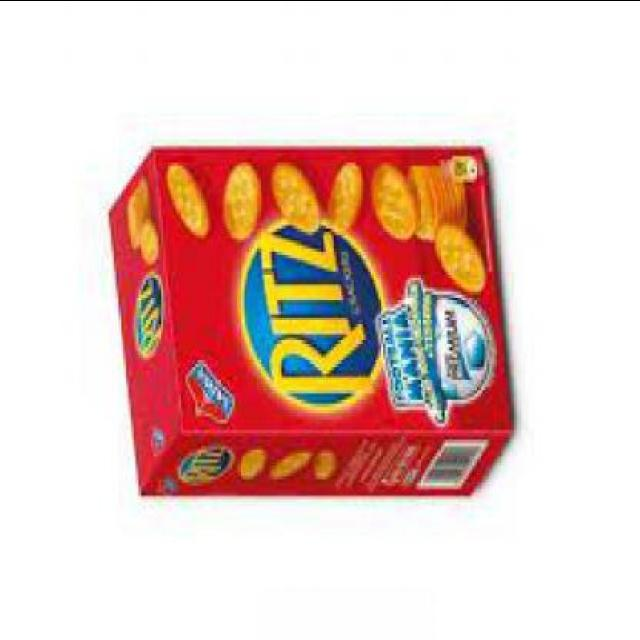Ritz cracker: (108, 111, 520, 532)
